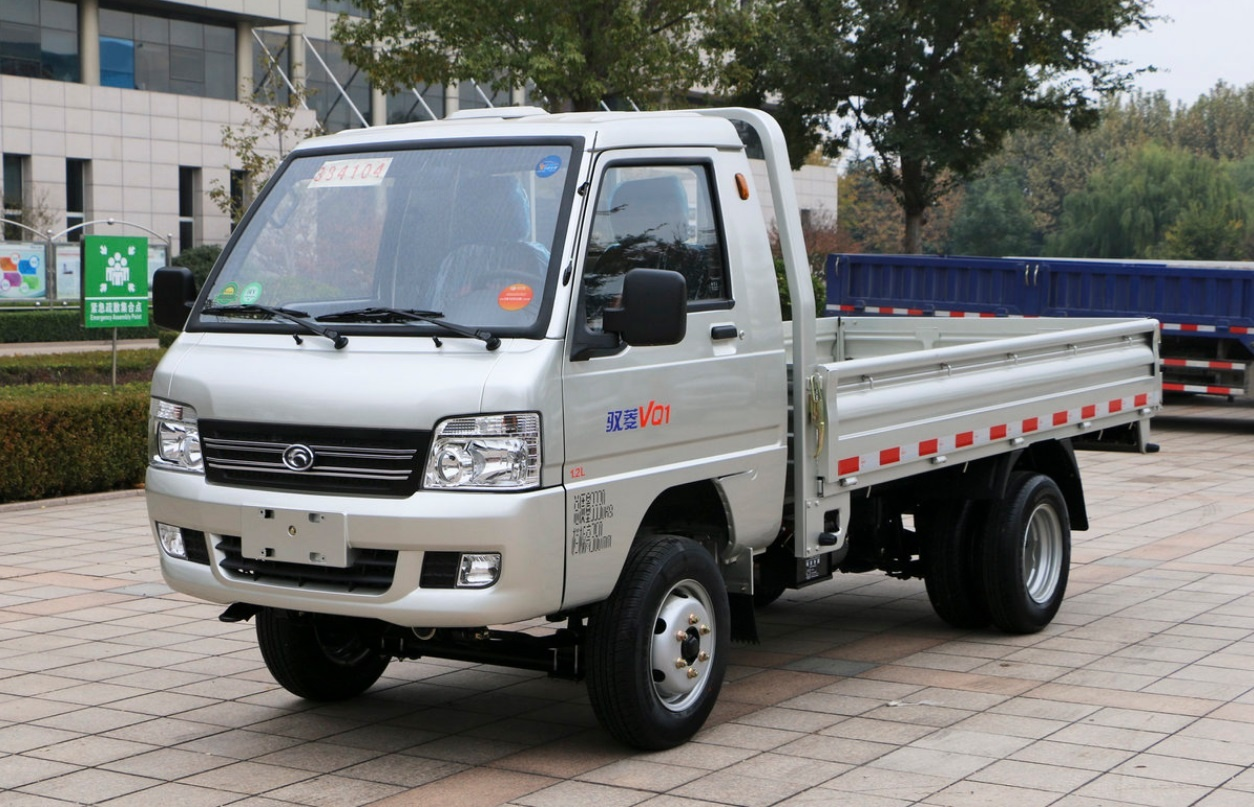truck: (126, 85, 1170, 727)
